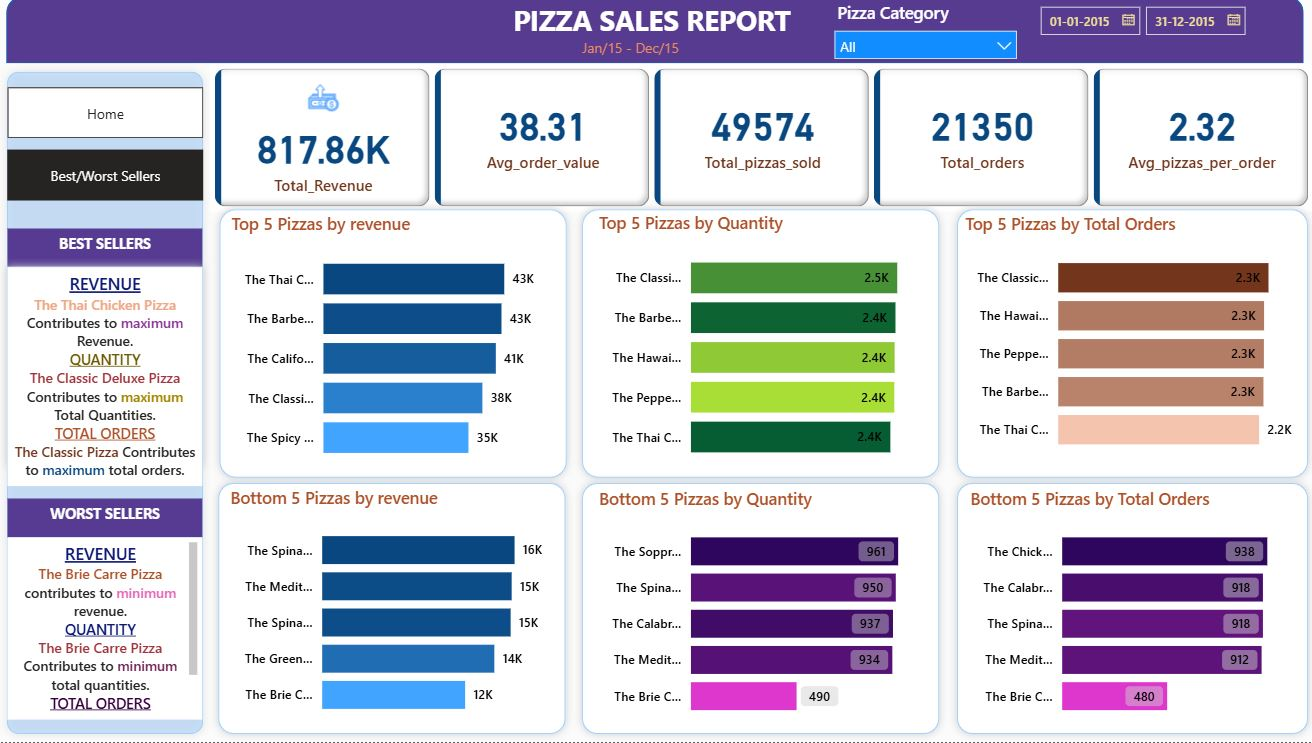

The dashboard page shown, as its layout file describes it:
{"tool":"powerbi","page":{"name":"Best/Worst Sellers","canvas":[1280,720],"ordinal":1},"visuals":[{"type":"cardVisual","fields":{"Data":["pizza_sales.Total_Revenue","pizza_sales.Avg_order_value","pizza_sales.Total_pizzas_sold","pizza_sales.Total_orders","pizza_sales.Avg_pizzas_per_order"]},"box":[212.3,65.1,1067.7,143.6],"z":0},{"type":"shape","box":[15.7,0,1252.3,65.1],"z":1000},{"type":"textbox","box":[458.4,0,360.7,49.5],"z":2000},{"type":"textbox","box":[564.6,36.2,107.4,29],"z":3000},{"type":"shape","box":[213.5,197.9,351.1,275.1],"z":4000},{"type":"shape","box":[8.4,65.1,205.1,655.1],"z":5000},{"type":"textbox","box":[16.9,224.4,188.2,37.4],"z":6000},{"type":"shape","box":[8.4,253.4,205.1,208.7],"z":7000},{"type":"textbox","box":[16.9,261.8,188.2,211.1],"z":8000},{"type":"textbox","box":[16.9,485,188.2,37.4],"z":9000},{"type":"textbox","box":[16.9,522.4,188.2,176.1],"z":10000},{"type":"slicer","fields":{"Values":["pizza_sales.pizza_category"]},"box":[804.7,0,196.6,65.1],"z":11000},{"type":"slicer","fields":{"Values":["pizza_sales.order_date"]},"box":[1001.3,0,222,65],"z":12000},{"type":"shape","box":[563.4,197.9,360.7,275.1],"z":13000},{"type":"shape","box":[925.3,197.9,354.7,275.1],"z":14000},{"type":"shape","box":[212.3,462.1,351.1,258.2],"z":15000},{"type":"shape","box":[563.4,462.1,360.7,258.2],"z":16000},{"type":"shape","box":[925.3,462.1,354.7,258.2],"z":17000},{"type":"barChart","title":"Top 5 Pizzas by revenue","fields":{"Category":["pizza_sales.pizza_name"],"Y":["pizza_sales.Total_Revenue"]},"box":[227.8,208.6,322.5,253.9],"z":18000},{"type":"barChart","title":"Bottom 5 Pizzas by revenue","fields":{"Category":["pizza_sales.pizza_name"],"Y":["pizza_sales.Total_Revenue"]},"box":[226.8,472.9,323.3,235.3],"z":19000},{"type":"barChart","title":"Top 5 Pizzas by Quantity","fields":{"Category":["pizza_sales.pizza_name"],"Y":["pizza_sales.Total_pizzas_sold"]},"box":[582.7,207.5,322.1,254.6],"z":20000},{"type":"barChart","title":"Bottom 5 Pizzas by Quantity","fields":{"Category":["pizza_sales.pizza_name"],"Y":["pizza_sales.Total_pizzas_sold"]},"box":[582.7,474.1,323.3,235.3],"z":20001},{"type":"barChart","title":"Top 5 Pizzas by Total Orders","fields":{"Category":["pizza_sales.pizza_name"],"Y":["pizza_sales.Total_orders"]},"box":[936.2,208.7,328.2,244.9],"z":20002},{"type":"barChart","title":"Bottom 5 Pizzas by Total Orders","fields":{"Category":["pizza_sales.pizza_name"],"Y":["pizza_sales.Total_orders"]},"box":[941,474.1,323.3,235.3],"z":20003},{"type":"pageNavigator","box":[16.9,148.4,189.4,49.5],"z":20004},{"type":"pageNavigator","box":[16.9,88.1,189.4,49.5],"z":20005}]}

Visuals, with their boxes in screenshot pixels (x1, y1, x2, y2), scaled from the page's 1280x720 canvas onto the 1312x743 screenshot:
cardVisual - pizza_sales.Total_Revenue x pizza_sales.Avg_order_value: (x1=218, y1=67, x2=1311, y2=215)
shape: (x1=16, y1=0, x2=1300, y2=67)
textbox: (x1=470, y1=0, x2=840, y2=51)
textbox: (x1=579, y1=37, x2=689, y2=67)
shape: (x1=219, y1=204, x2=579, y2=488)
shape: (x1=9, y1=67, x2=219, y2=742)
textbox: (x1=17, y1=232, x2=210, y2=270)
shape: (x1=9, y1=261, x2=219, y2=477)
textbox: (x1=17, y1=270, x2=210, y2=488)
textbox: (x1=17, y1=500, x2=210, y2=539)
textbox: (x1=17, y1=539, x2=210, y2=721)
slicer - pizza_sales.pizza_category: (x1=825, y1=0, x2=1026, y2=67)
slicer - pizza_sales.order_date: (x1=1026, y1=0, x2=1254, y2=67)
shape: (x1=577, y1=204, x2=947, y2=488)
shape: (x1=948, y1=204, x2=1311, y2=488)
shape: (x1=218, y1=477, x2=577, y2=742)
shape: (x1=577, y1=477, x2=947, y2=742)
shape: (x1=948, y1=477, x2=1311, y2=742)
"Top 5 Pizzas by revenue" barChart: (x1=233, y1=215, x2=564, y2=477)
"Bottom 5 Pizzas by revenue" barChart: (x1=232, y1=488, x2=564, y2=731)
"Top 5 Pizzas by Quantity" barChart: (x1=597, y1=214, x2=927, y2=477)
"Bottom 5 Pizzas by Quantity" barChart: (x1=597, y1=489, x2=929, y2=732)
"Top 5 Pizzas by Total Orders" barChart: (x1=960, y1=215, x2=1296, y2=468)
"Bottom 5 Pizzas by Total Orders" barChart: (x1=965, y1=489, x2=1296, y2=732)
pageNavigator: (x1=17, y1=153, x2=211, y2=204)
pageNavigator: (x1=17, y1=91, x2=211, y2=142)
